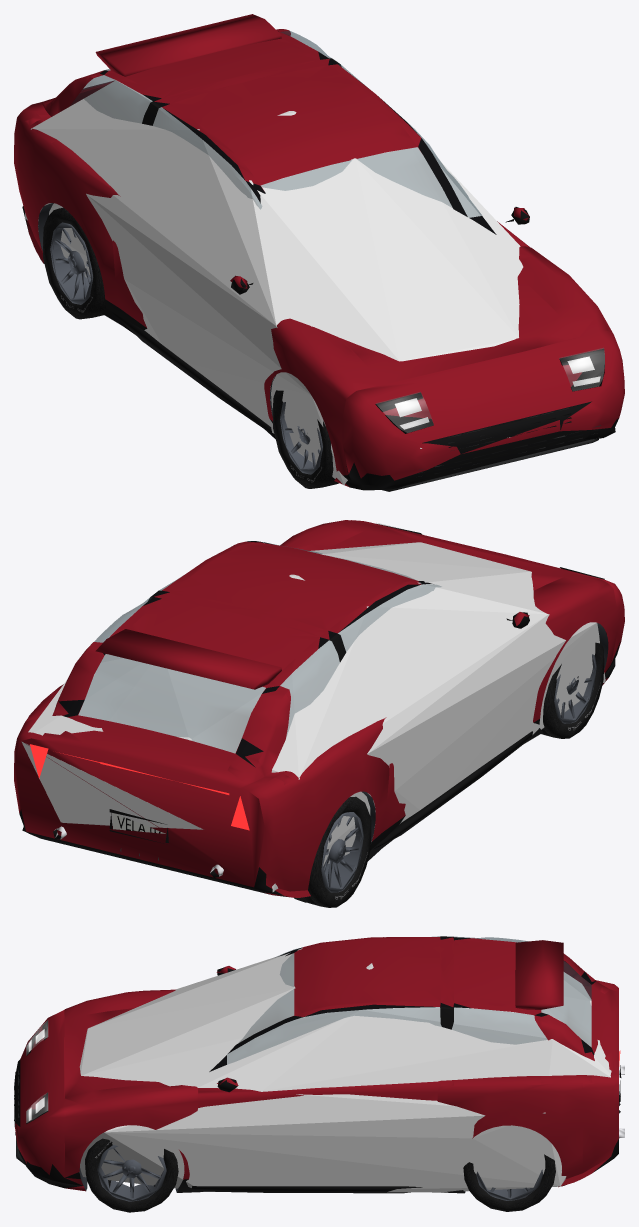
Rendered from noctra_vela_lod2.glb.
The picture shows the model from 3 angles, top to bottom: view 1: azimuth 30°, elevation 25°; view 2: azimuth 150°, elevation 25°; view 3: azimuth 270°, elevation 25°; orthographic projection. The views are drawn at different scales.
Parts seen in each view (by area): view 1: col_body, body, trim, glass, wheel_RR, wheel_FR, lights_front, underbody; view 2: body, col_body, glass, trim, wheel_RR, wheel_FR, underbody, lights_rear, plate_rear; view 3: col_body, body, glass, trim, wheel_FL, wheel_RL, lights_front.
Boxes of the visible parts, x1,y1,x2,y2 form: col_body: (24,80,523,484); body: (14,29,624,490); trim: (95,14,604,491); glass: (70,31,481,217); wheel_RR: (43,207,105,319); wheel_FR: (272,390,338,488); lights_front: (376,348,604,432); underbody: (38,203,601,489); body: (14,520,624,897); col_body: (21,542,605,892); glass: (78,541,441,753); trim: (95,523,604,860); wheel_RR: (294,796,371,907); wheel_FR: (541,638,604,738); underbody: (35,623,608,897); lights_rear: (30,744,249,830); plate_rear: (109,809,168,843); col_body: (79,937,611,1192); body: (14,937,618,1193); glass: (227,936,591,1064); trim: (14,940,620,1193); wheel_FL: (85,1138,178,1212); wheel_RL: (463,1154,555,1211); lights_front: (26,1020,47,1122).
Size of the model in its own units: 1.86 by 1.43 by 4.13.
13 materials, 3 textured.
